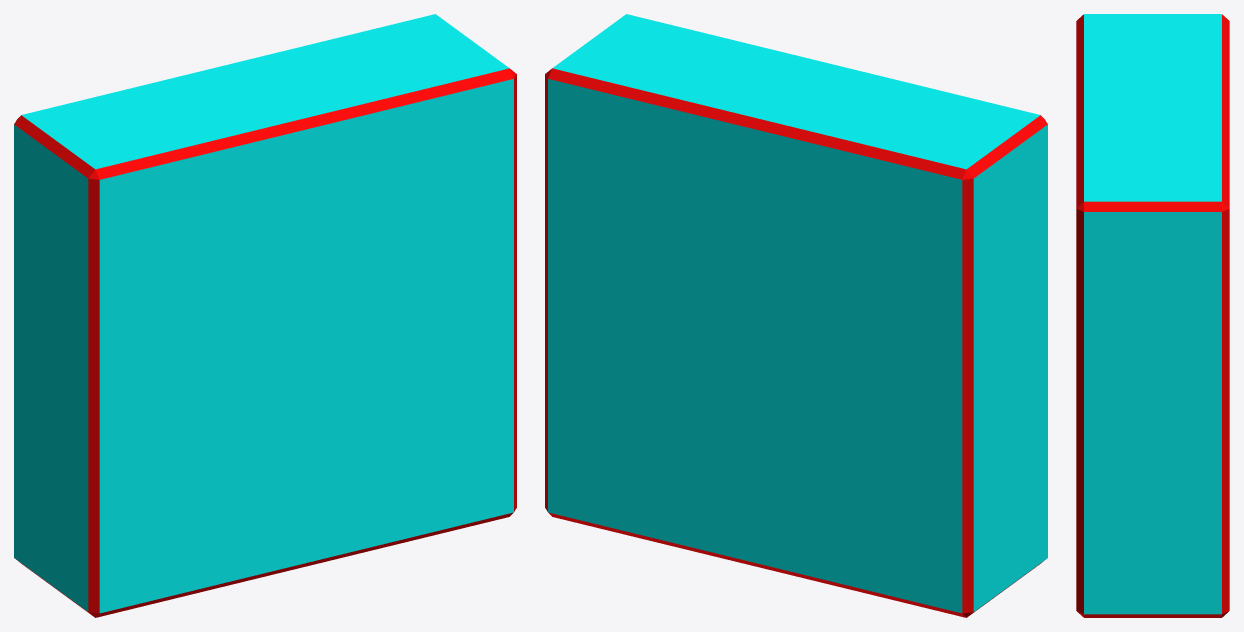
File: L13_LittleWall.fbx
3 views of the same model, side by side, from view 1: azimuth 30°, elevation 25°; view 2: azimuth 150°, elevation 25°; view 3: azimuth 270°, elevation 25° (orthographic). The views are drawn at different scales.
Parts seen in each view (by area): view 1: L13_LittleWall; view 2: L13_LittleWall; view 3: L13_LittleWall.
Boxes of the visible parts, x1=… form: L13_LittleWall: x1=14, y1=14, x2=516, y2=617; L13_LittleWall: x1=545, y1=14, x2=1047, y2=617; L13_LittleWall: x1=1076, y1=14, x2=1229, y2=617.
Size of the model in its own units: 300 by 300 by 100.
